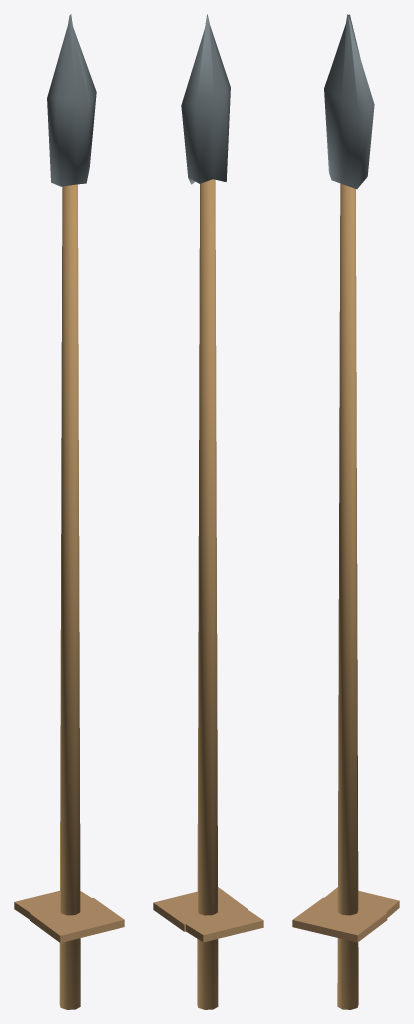
Rendered from arrow.glb.
3 views of the same model, side by side, from view 1: azimuth 30°, elevation 25°; view 2: azimuth 210°, elevation 25°; view 3: azimuth 330°, elevation 25° (orthographic).
Parts seen in each view (by area): view 1: arrow_shaft, arrow_head, arrow_fletching_0, arrow_fletching_1; view 2: arrow_shaft, arrow_head, arrow_fletching_0, arrow_fletching_1; view 3: arrow_shaft, arrow_head, arrow_fletching_0, arrow_fletching_1.
Boxes of the visible parts, x1=… form: arrow_shaft: x1=59, y1=184, x2=80, y2=1009; arrow_head: x1=47, y1=14, x2=96, y2=186; arrow_fletching_0: x1=30, y1=898, x2=124, y2=942; arrow_fletching_1: x1=14, y1=890, x2=91, y2=919; arrow_shaft: x1=197, y1=179, x2=218, y2=1009; arrow_head: x1=181, y1=14, x2=230, y2=184; arrow_fletching_0: x1=153, y1=887, x2=247, y2=931; arrow_fletching_1: x1=180, y1=908, x2=263, y2=942; arrow_shaft: x1=337, y1=183, x2=358, y2=1009; arrow_head: x1=324, y1=14, x2=374, y2=189; arrow_fletching_0: x1=292, y1=897, x2=387, y2=942; arrow_fletching_1: x1=310, y1=887, x2=399, y2=917.
Size of the model in its own units: 0.0748 by 1.09 by 0.0928.
